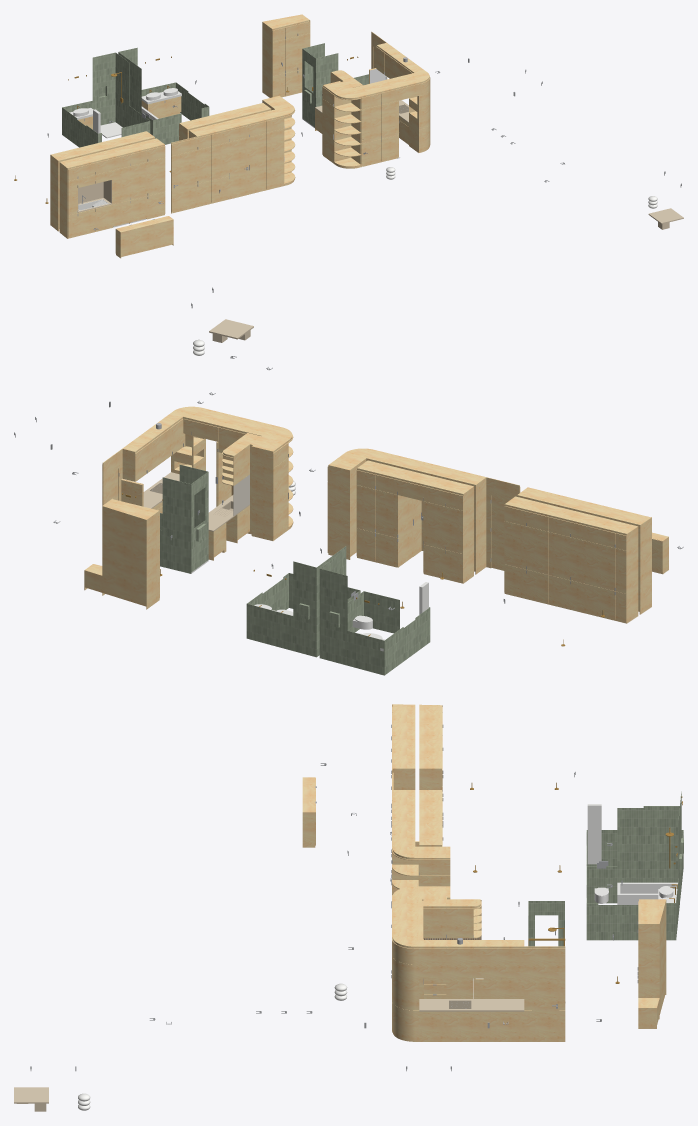
File: einbauten.glb
The picture shows the model from 3 angles, top to bottom: view 1: azimuth 30°, elevation 25°; view 2: azimuth 150°, elevation 25°; view 3: azimuth 270°, elevation 25°; orthographic projection. The views are drawn at different scales.
Visible parts, largest first — view 1: einbauten; view 2: einbauten; view 3: einbauten.
Boxes of the visible parts, left/top/right/bottom form: einbauten: left=14, top=14, right=683, bottom=258; einbauten: left=14, top=287, right=683, bottom=675; einbauten: left=14, top=704, right=683, bottom=1111.
Size of the model in its own units: 19.21 by 2.83 by 17.21.
Materials: 6 (3 with a texture image).
